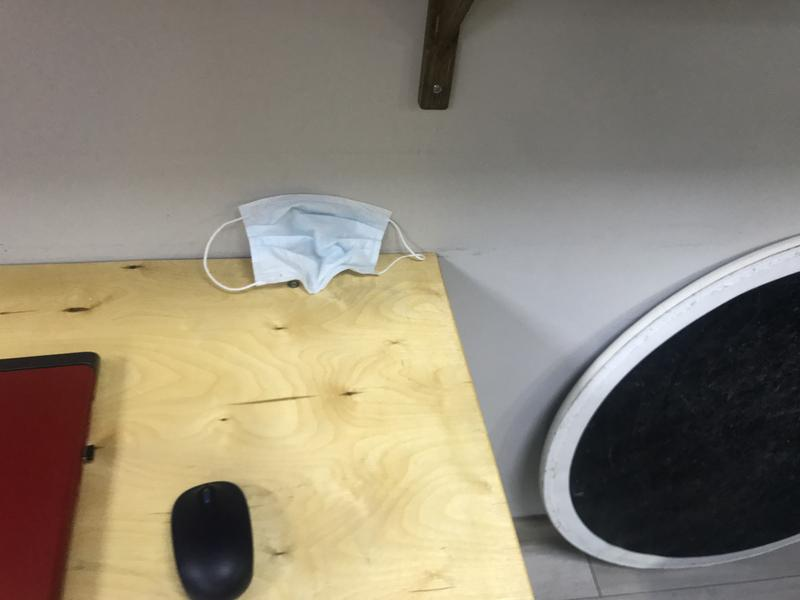medical_mask: (203, 192, 425, 293)
